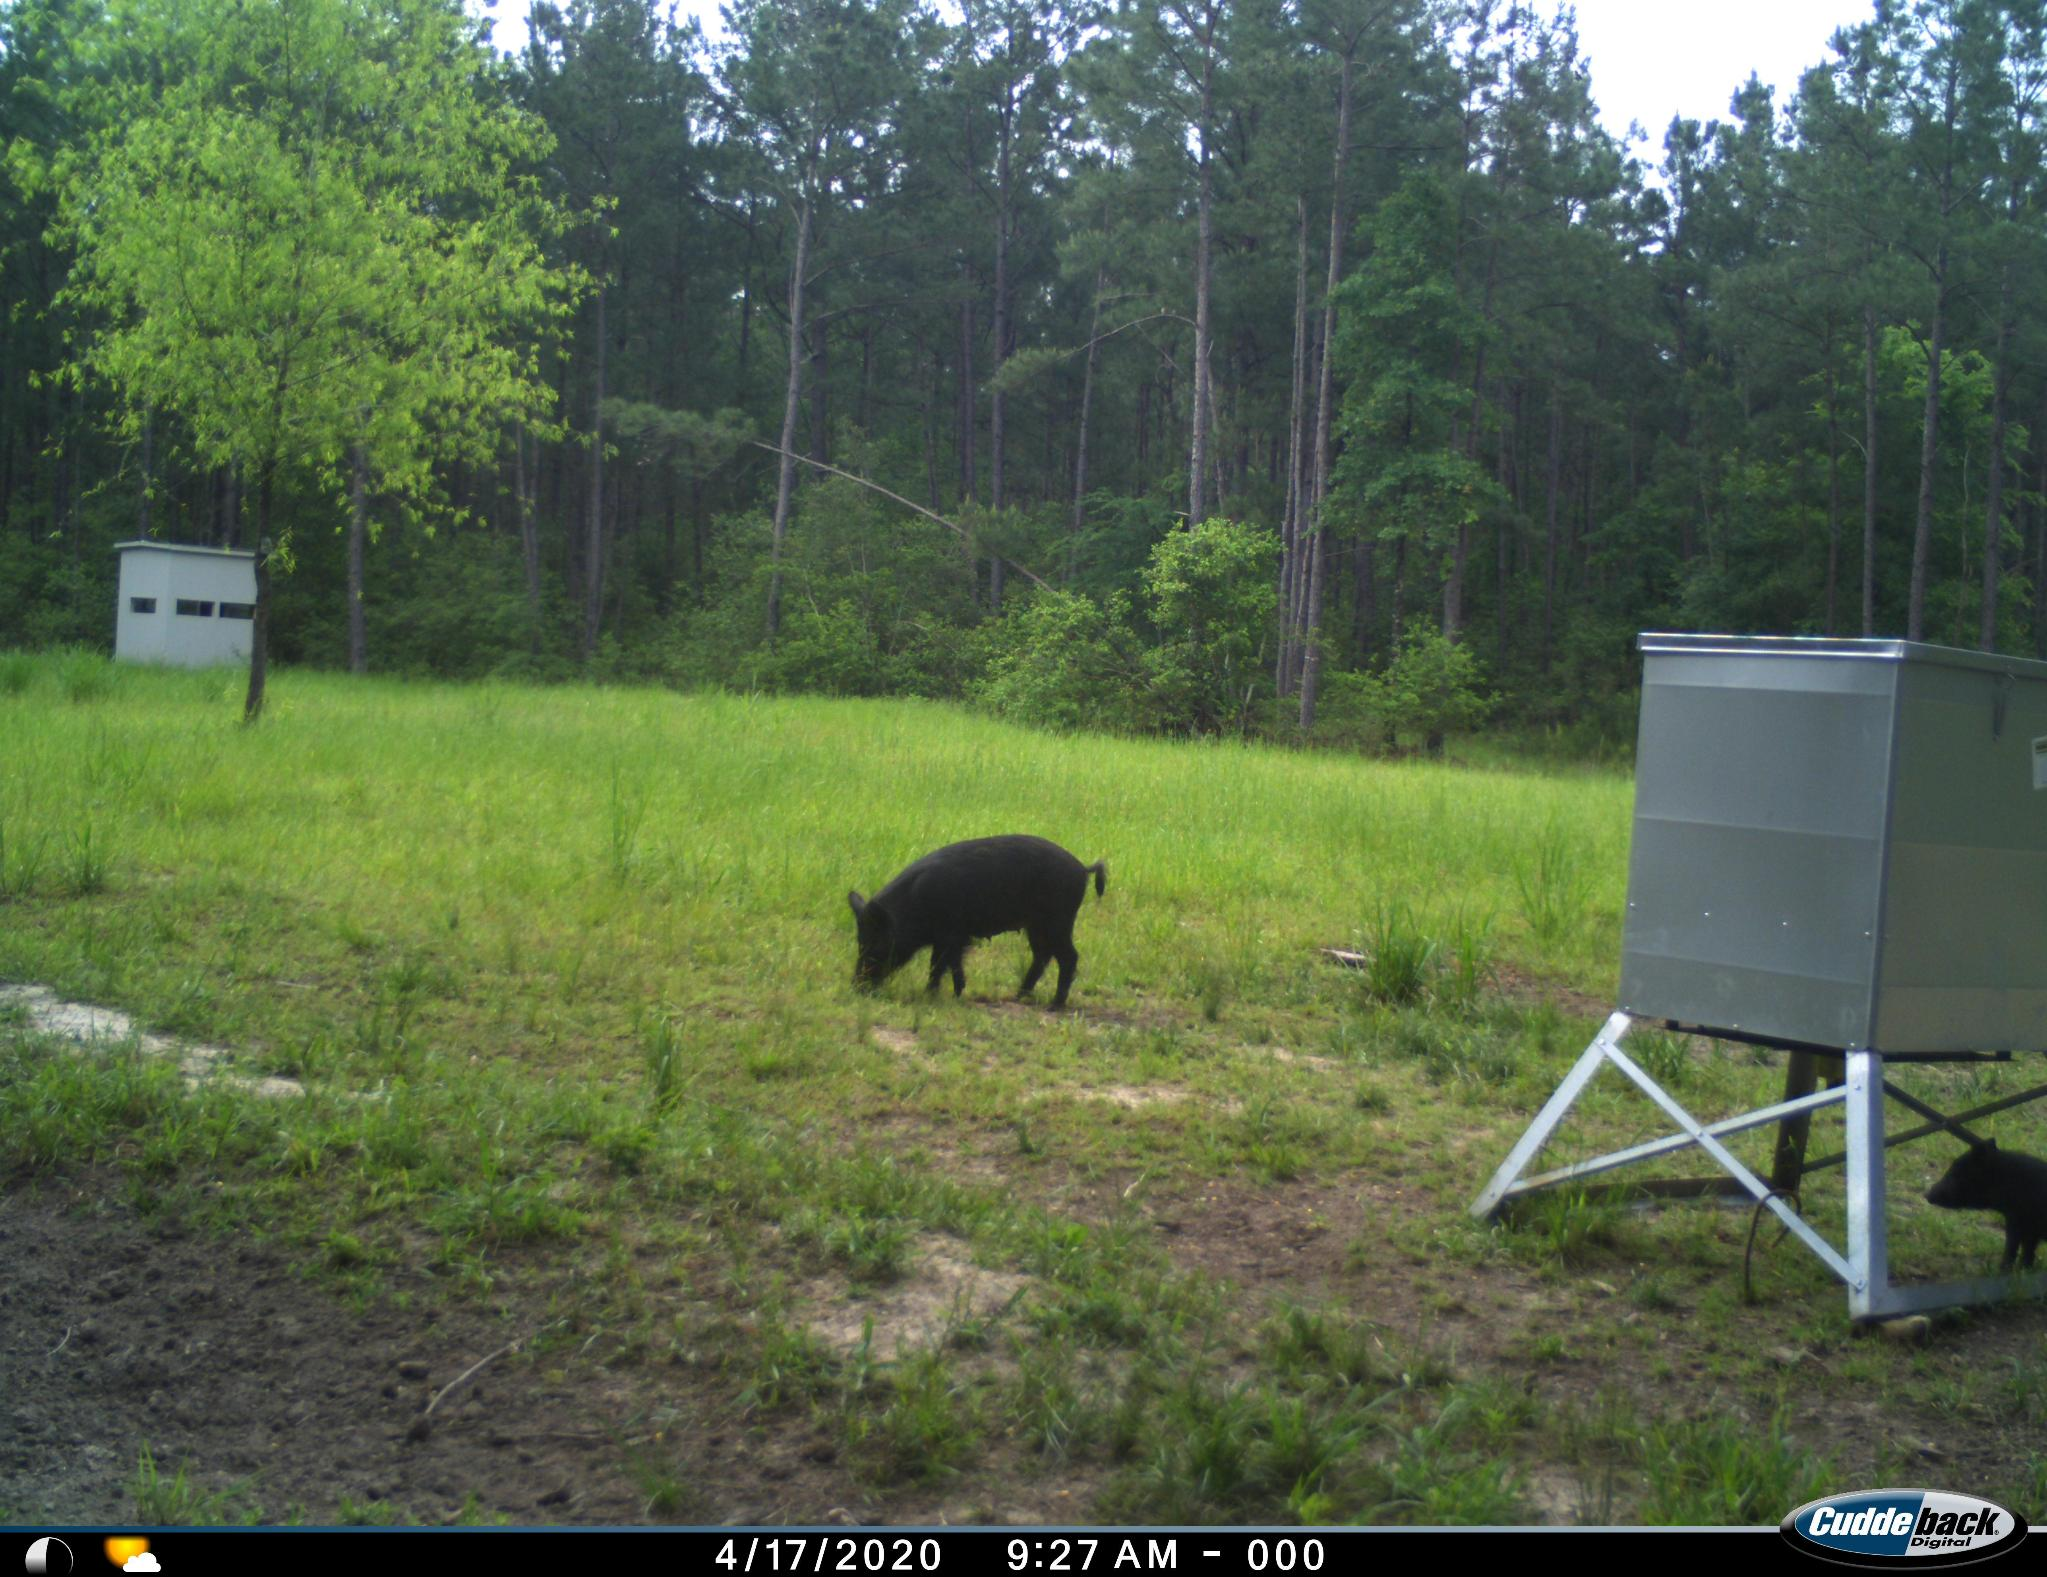Hog: (835, 820, 1121, 1027), (1919, 1130, 2047, 1289)
